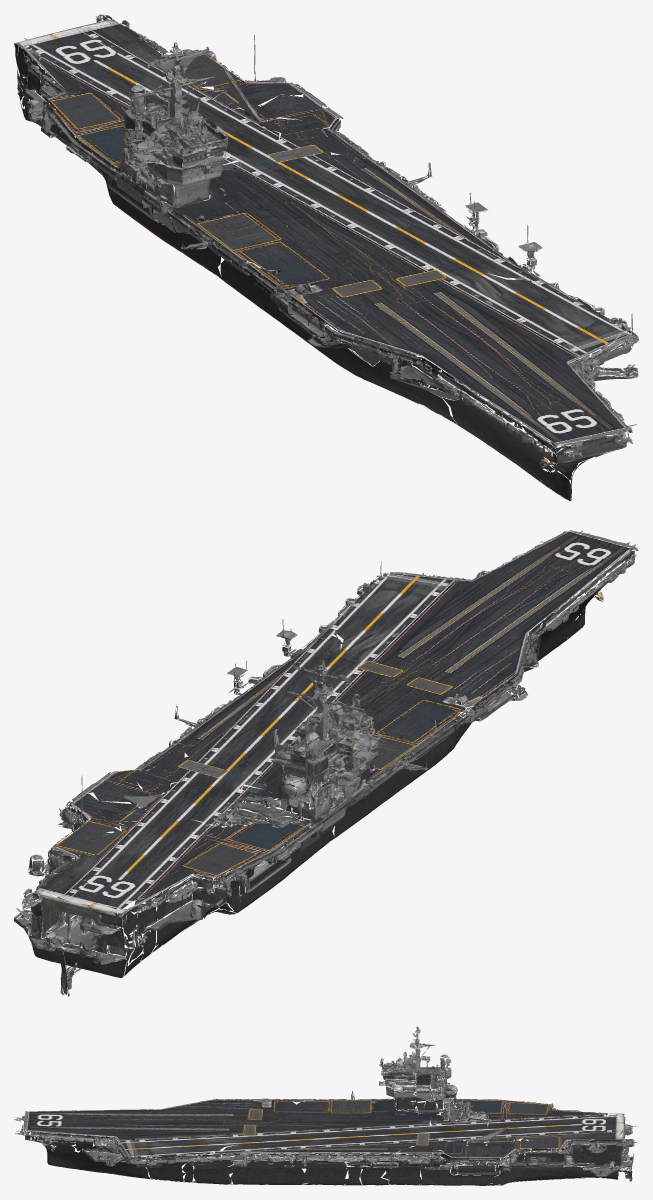
3 views of the same model, one above another, from view 1: azimuth 30°, elevation 25°; view 2: azimuth 150°, elevation 25°; view 3: azimuth 270°, elevation 25° (orthographic). The views are drawn at different scales.
Bounding box in the file's own units: 0.5045 × 0.4436 × 1.91.
1 material, 1 textured.
